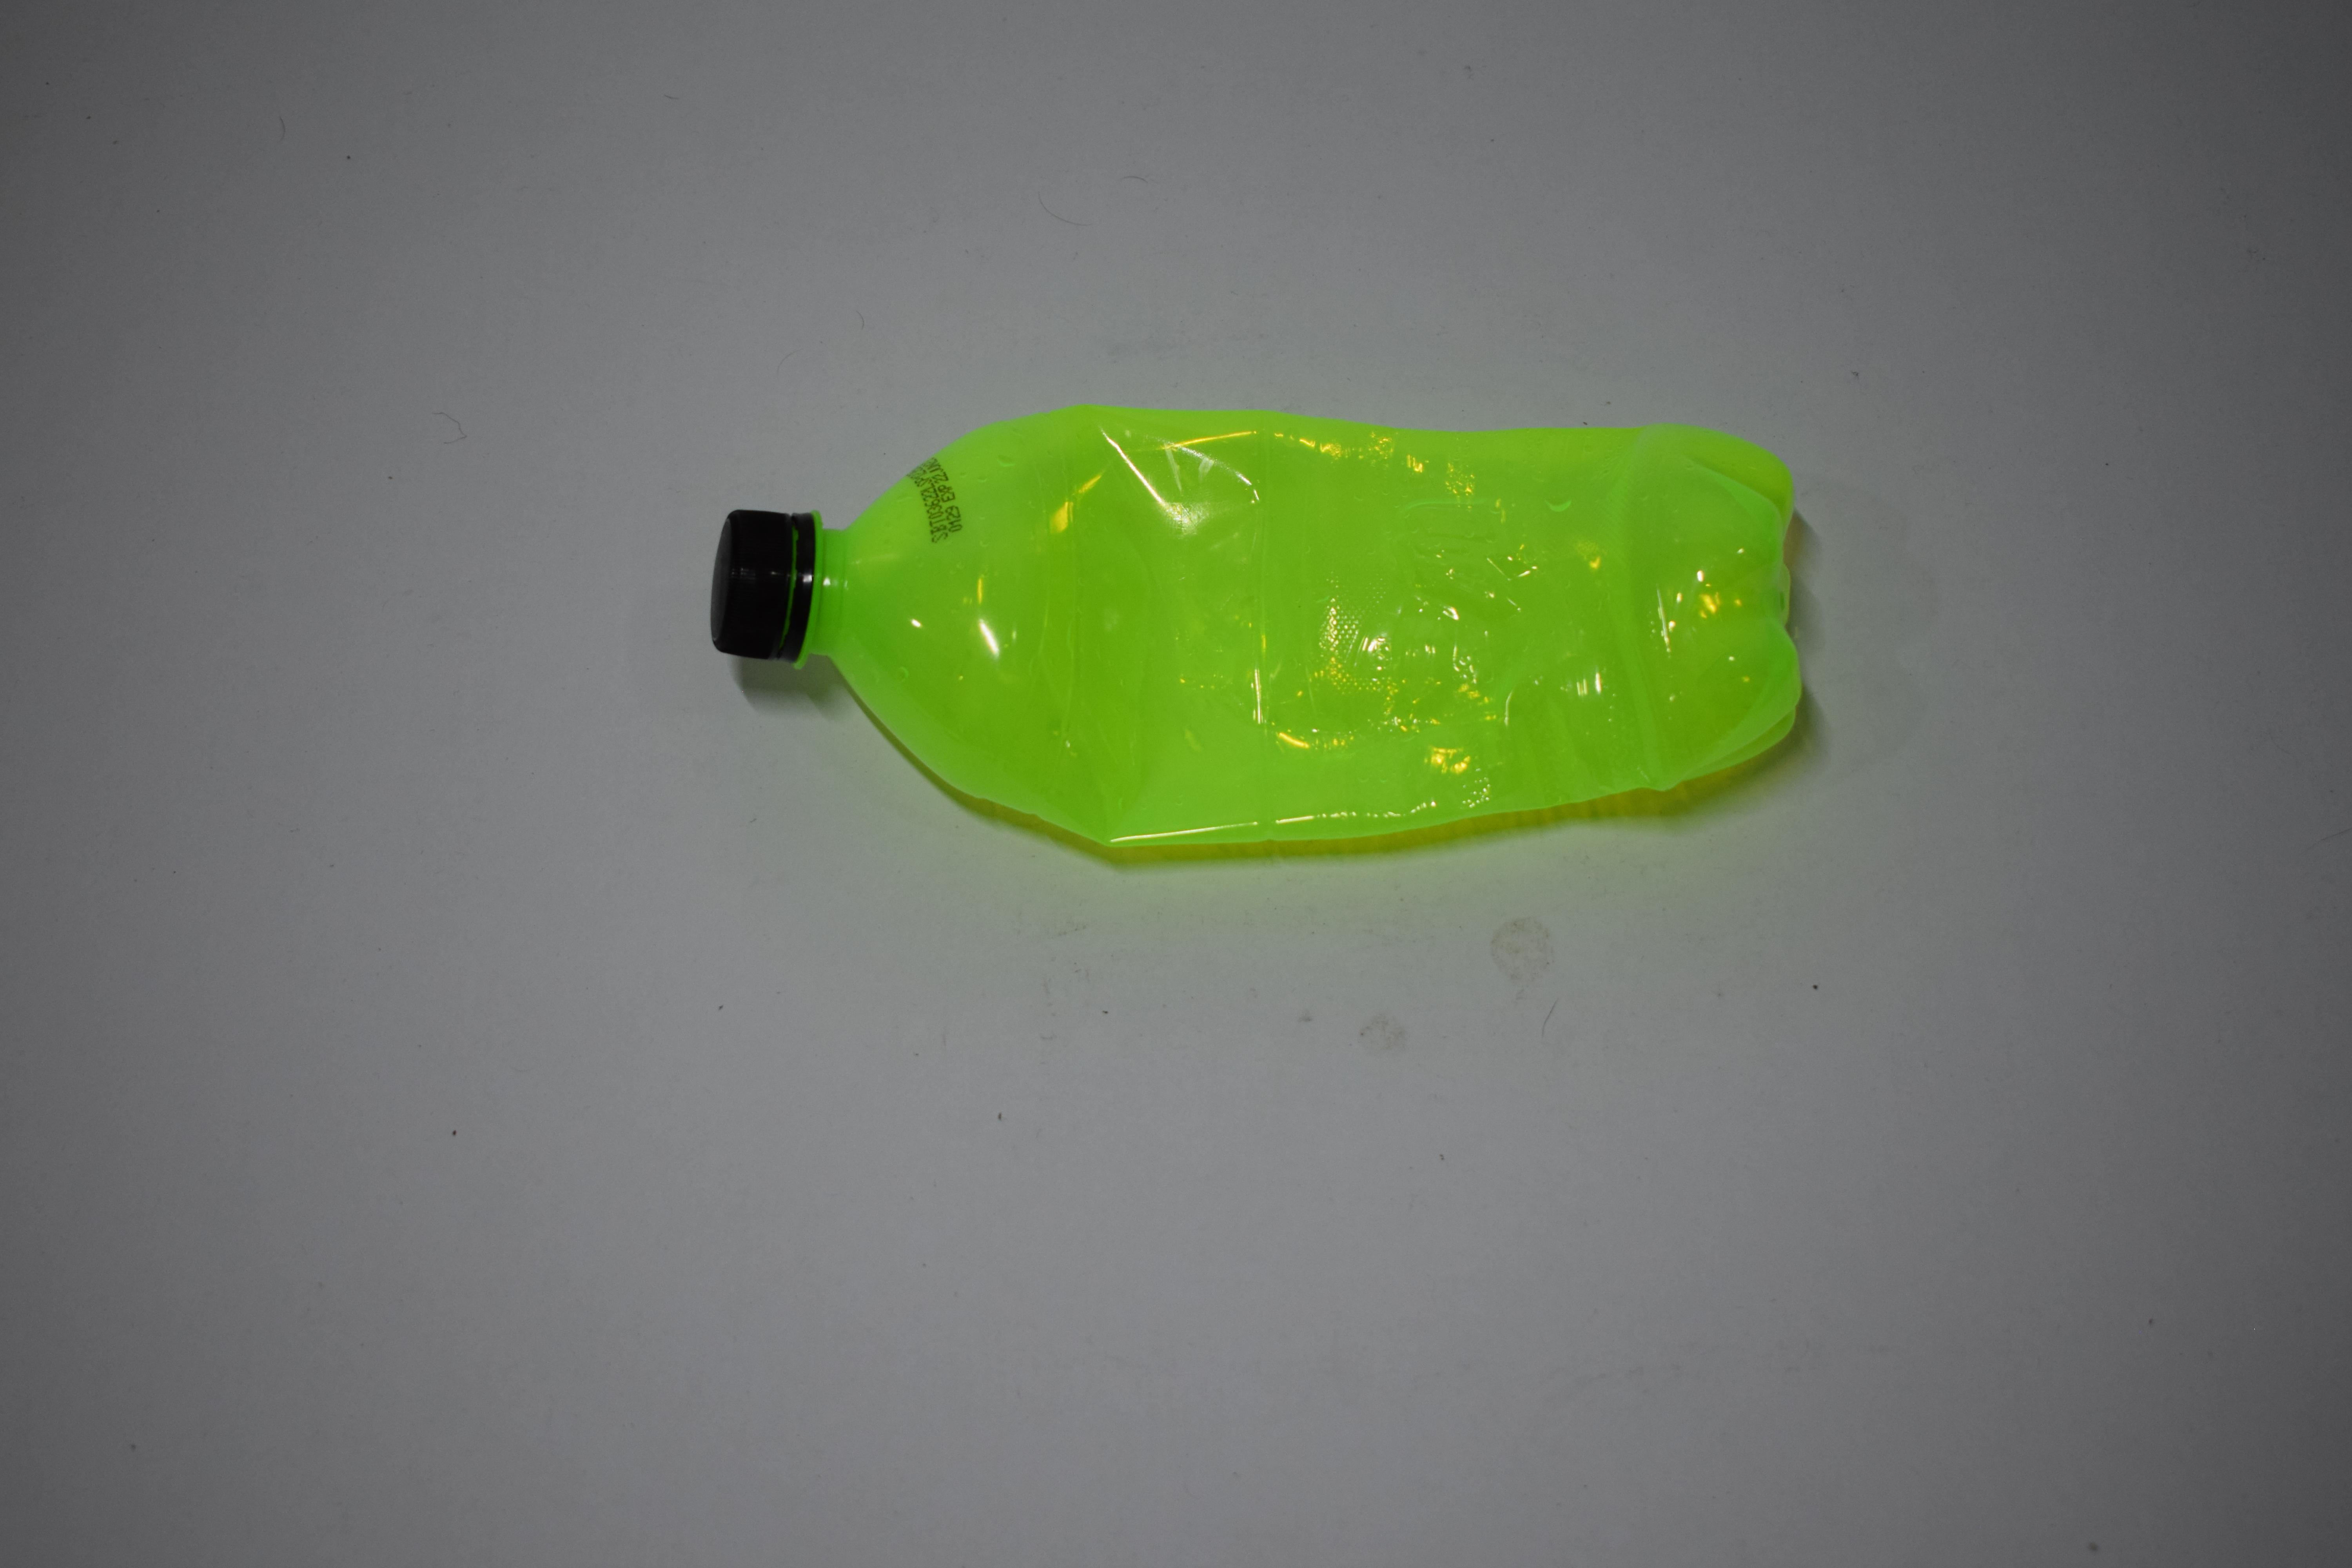bottle: (0, 392, 635, 863)
